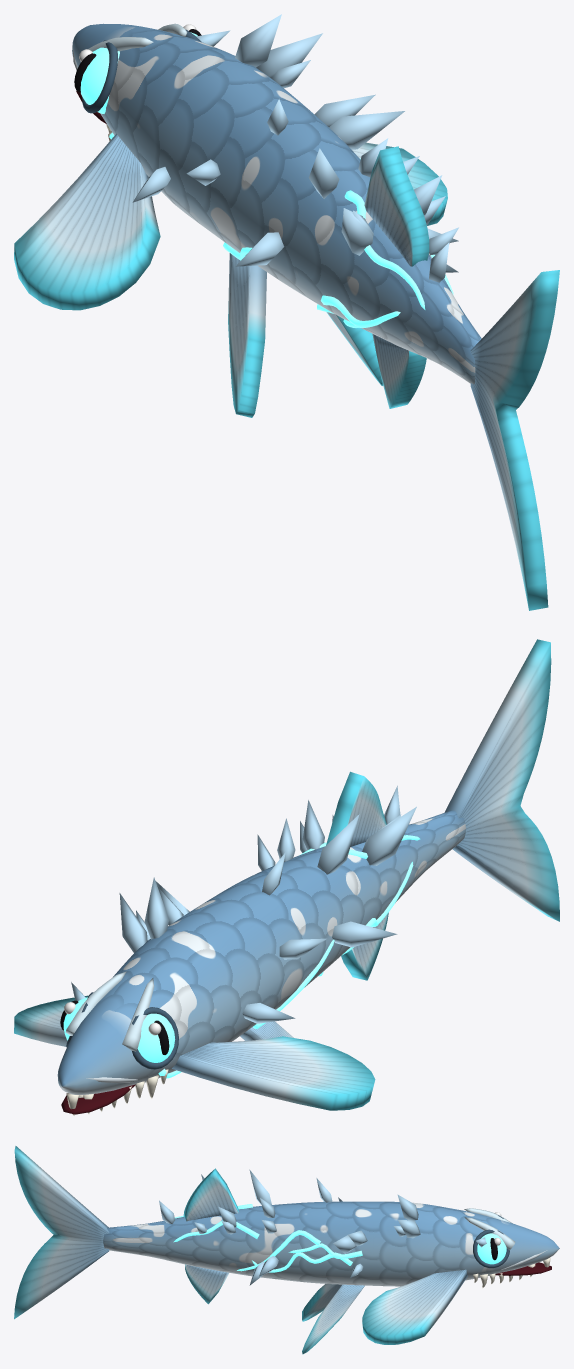
File: CrystalPike.glb
The picture shows the model from 3 angles, top to bottom: view 1: azimuth 30°, elevation 25°; view 2: azimuth 150°, elevation 25°; view 3: azimuth 270°, elevation 25°; orthographic projection. The views are drawn at different scales.
Parts seen in each view (by area): view 1: CrystalPike, CrystalPike_Glow; view 2: CrystalPike, CrystalPike_Glow; view 3: CrystalPike, CrystalPike_Glow.
Part boxes in pixels (x1,y1,x2,y2): CrystalPike: (14,14,559,610); CrystalPike_Glow: (80,32,453,327); CrystalPike: (14,639,559,1115); CrystalPike_Glow: (63,835,420,1078); CrystalPike: (14,1146,559,1354); CrystalPike_Glow: (173,1204,506,1272).
Bounding box in the file's own units: 1.93 × 1.56 × 4.3.
Materials: 2 (1 with a texture image).
